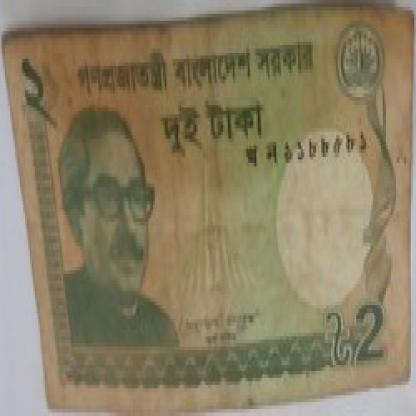two taka: (348, 298, 391, 388), (12, 66, 72, 128)
